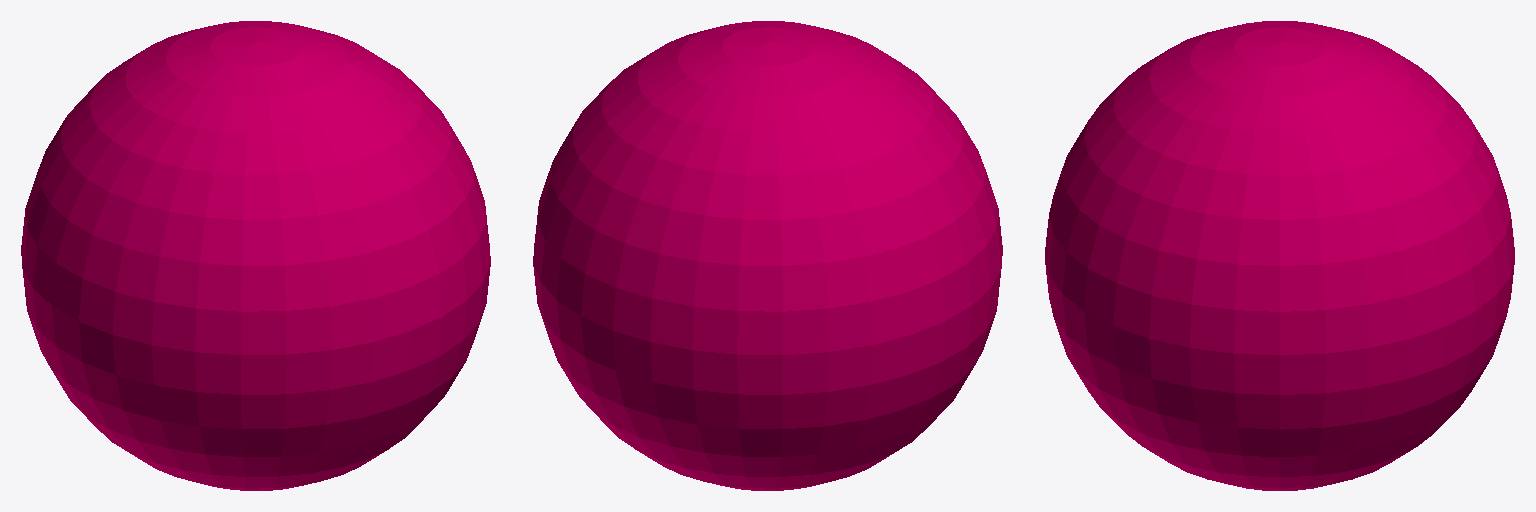
Rendered from EnemyBullet.obj.
3 views of the same model, side by side, from view 1: azimuth 30°, elevation 25°; view 2: azimuth 150°, elevation 25°; view 3: azimuth 270°, elevation 25° (orthographic).
Parts seen in each view (by area): view 1: Sphere; view 2: Sphere; view 3: Sphere.
Boxes of the visible parts, x1,y1,x2,y2 form: Sphere: [21, 21, 490, 490]; Sphere: [533, 21, 1002, 490]; Sphere: [1045, 21, 1514, 490].
Size of the model in its own units: 2 by 2 by 2.